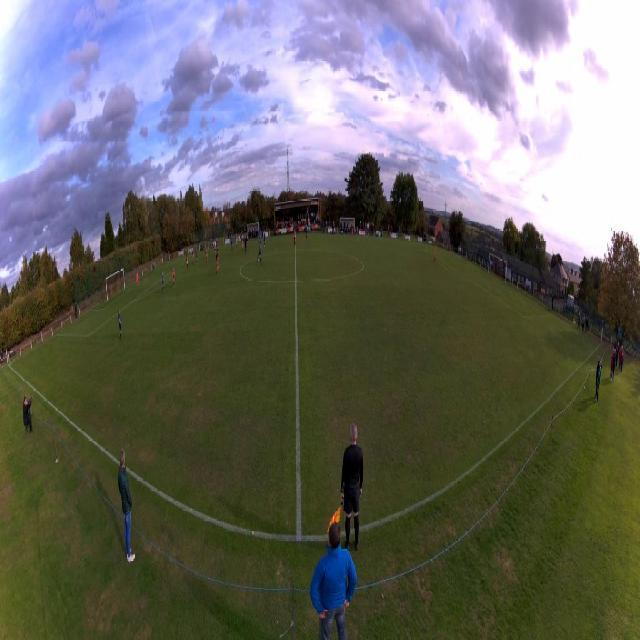ball: (257, 258, 259, 263)
player: (118, 310, 122, 341), (257, 241, 262, 265), (162, 272, 166, 293), (172, 267, 176, 288), (216, 254, 219, 275), (186, 254, 189, 273), (293, 228, 296, 246), (244, 236, 247, 254), (433, 245, 436, 262), (263, 231, 266, 248), (136, 271, 139, 287), (230, 234, 233, 250), (242, 236, 245, 251), (235, 233, 238, 248), (305, 224, 308, 239), (195, 248, 197, 265), (206, 249, 208, 265), (216, 238, 218, 253), (192, 249, 194, 264), (214, 244, 216, 256), (208, 243, 209, 254)
